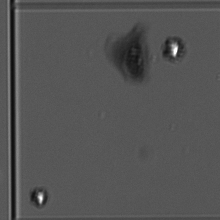Dead Cell: (104, 29, 159, 84)
Living Cell: (161, 33, 192, 64), (27, 184, 54, 211)
